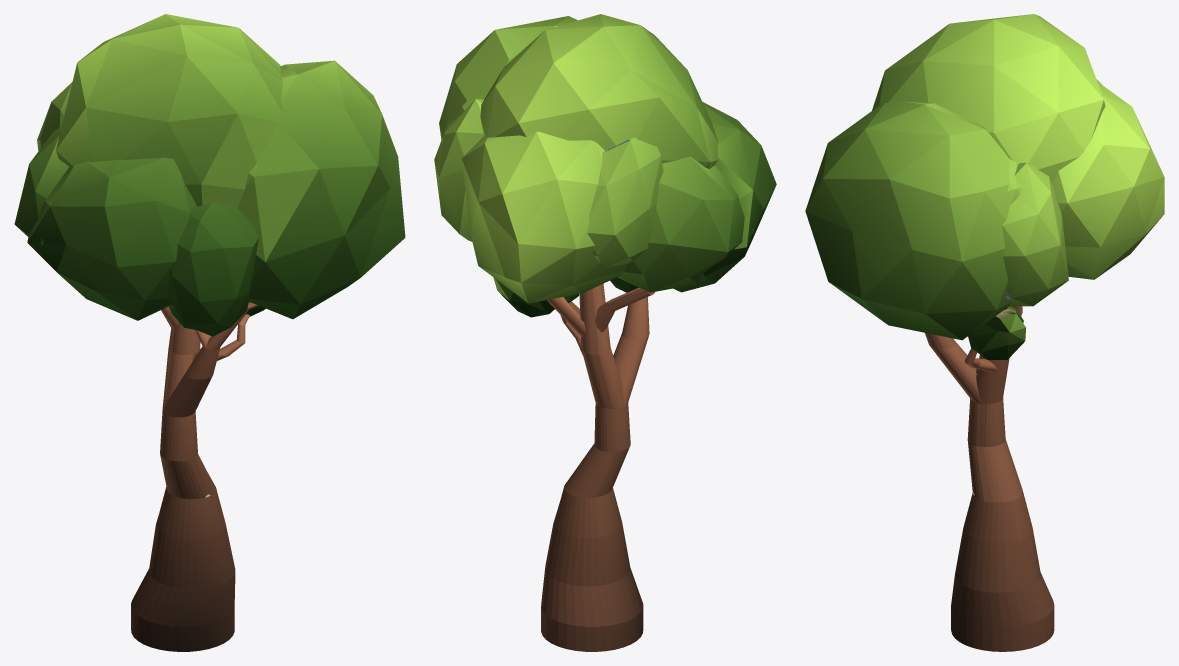
The model's file is env_tree_melissaLiao_01.glb.
The picture shows the model from 3 angles, left to right: view 1: azimuth 30°, elevation 25°; view 2: azimuth 150°, elevation 25°; view 3: azimuth 270°, elevation 25°; orthographic projection.
Visible parts, largest first — view 1: Cylinder; view 2: Cylinder; view 3: Cylinder.
Part boxes in pixels (bbox=[...]): Cylinder: bbox=[14, 14, 405, 651]; Cylinder: bbox=[434, 14, 776, 651]; Cylinder: bbox=[805, 14, 1164, 651].
Bounding box in the file's own units: 7.38 × 12.97 × 6.96.
Materials: 1 (1 with a texture image).
